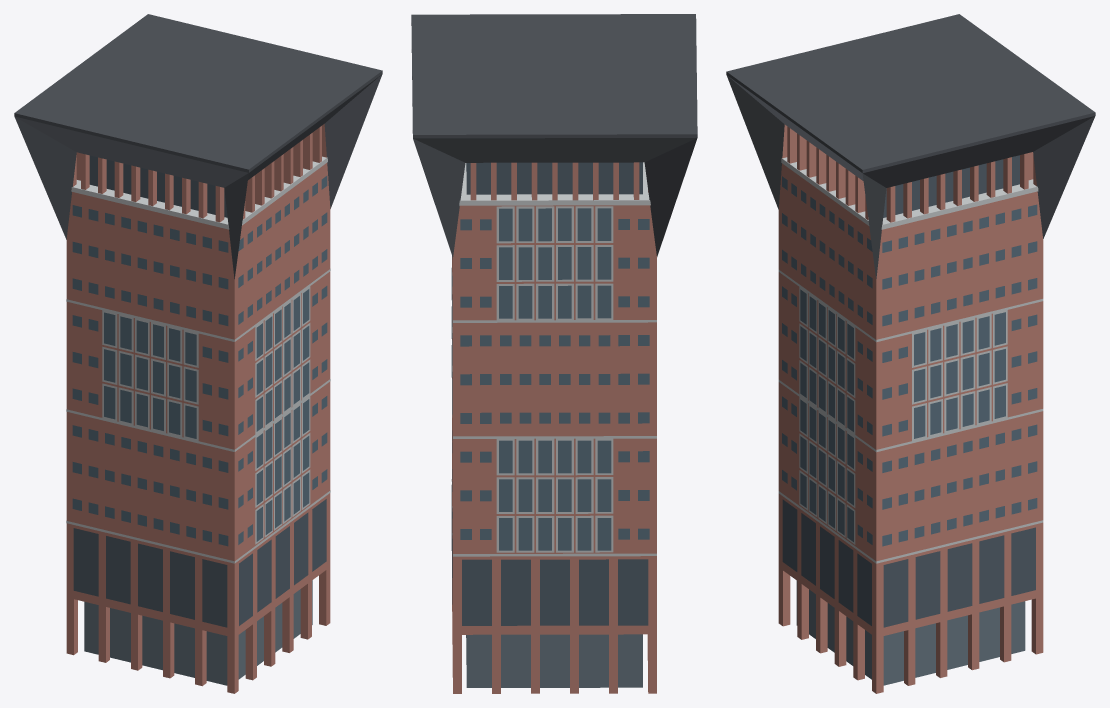
Rendered from frankfurt-japan-center.glb.
3 renders of one model, left to right at view 1: azimuth 30°, elevation 25°; view 2: azimuth 150°, elevation 25°; view 3: azimuth 270°, elevation 25°, orthographic. The views are drawn at different scales.
Parts seen in each view (by area): view 1: Japan Center; view 2: Japan Center; view 3: Japan Center.
Boxes of the visible parts, x1=… form: Japan Center: x1=14, y1=14, x2=382, y2=693; Japan Center: x1=411, y1=14, x2=697, y2=693; Japan Center: x1=726, y1=14, x2=1095, y2=693.
Bounding box in the file's own units: 70.45 × 115 × 70.45.
